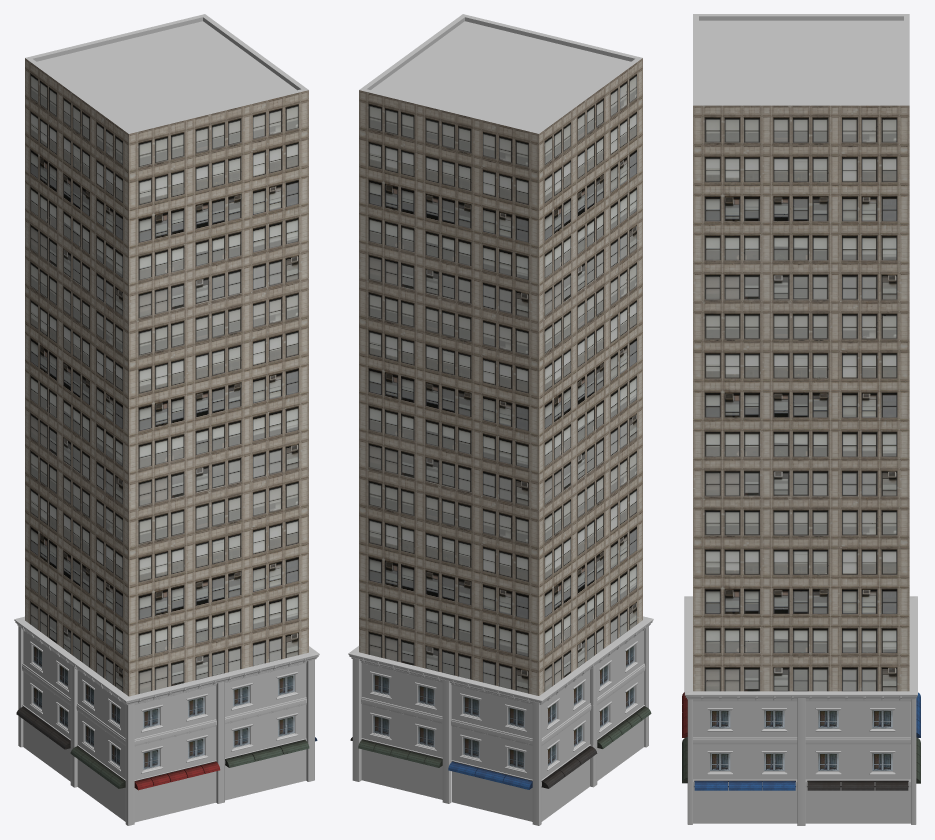
The model's file is High RIse Building 39.fbx.
3 renders of one model, left to right at view 1: azimuth 30°, elevation 25°; view 2: azimuth 150°, elevation 25°; view 3: azimuth 270°, elevation 25°, orthographic. The views are drawn at different scales.
Visible parts, largest first — view 1: Top1, Part_2, Part_1, Base; view 2: Top1, Part_2, Part_1, Base; view 3: Top1, Part_2, Part_1, Base.
Boxes of the visible parts, bbox=[...] form: Top1: bbox=[25, 14, 308, 322]; Part_2: bbox=[25, 247, 308, 510]; Part_1: bbox=[25, 435, 308, 696]; Base: bbox=[14, 616, 319, 825]; Top1: bbox=[359, 14, 642, 322]; Part_2: bbox=[359, 246, 642, 510]; Part_1: bbox=[359, 435, 642, 695]; Base: bbox=[348, 616, 653, 825]; Top1: bbox=[693, 14, 909, 301]; Part_2: bbox=[693, 301, 909, 497]; Part_1: bbox=[693, 498, 909, 691]; Base: bbox=[682, 596, 920, 825].
Size of the model in its own units: 1763 by 5850 by 1764.
